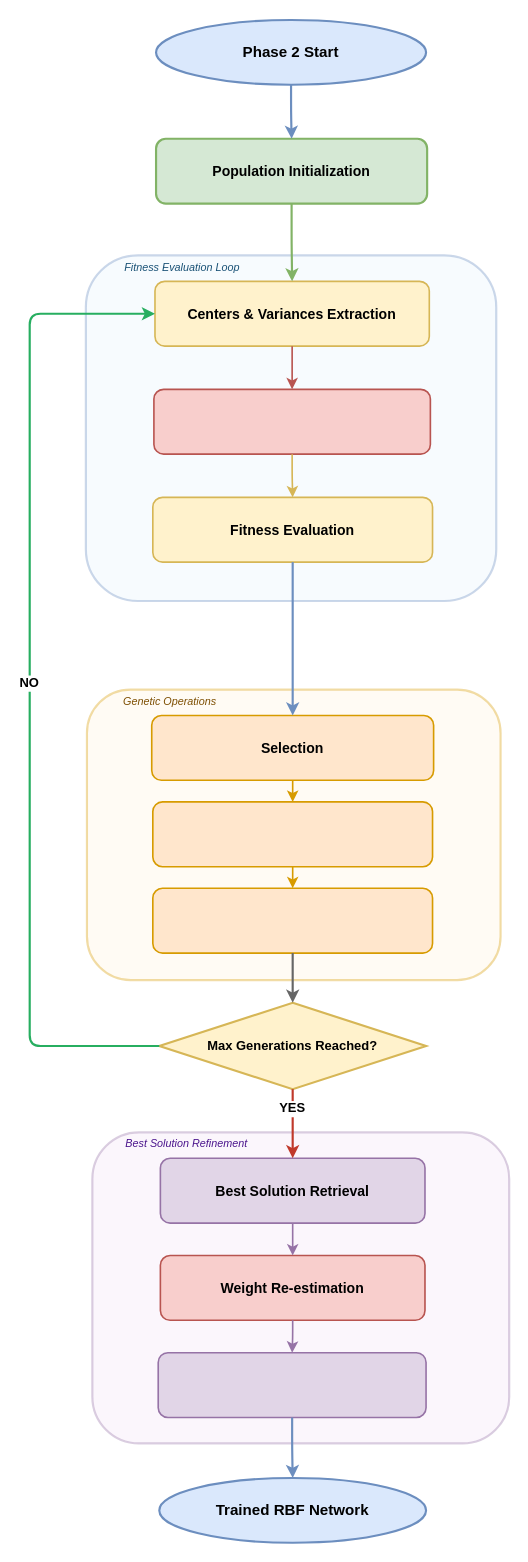
This 528x1562 diagram has some shape labels left out. Each missing label, with the box of its shape:
Crossover: (152, 801, 433, 867)
Local Optimization: (157, 1351, 426, 1418)
Mutation: (152, 887, 433, 953)
Weight Estimation: (153, 388, 431, 454)
